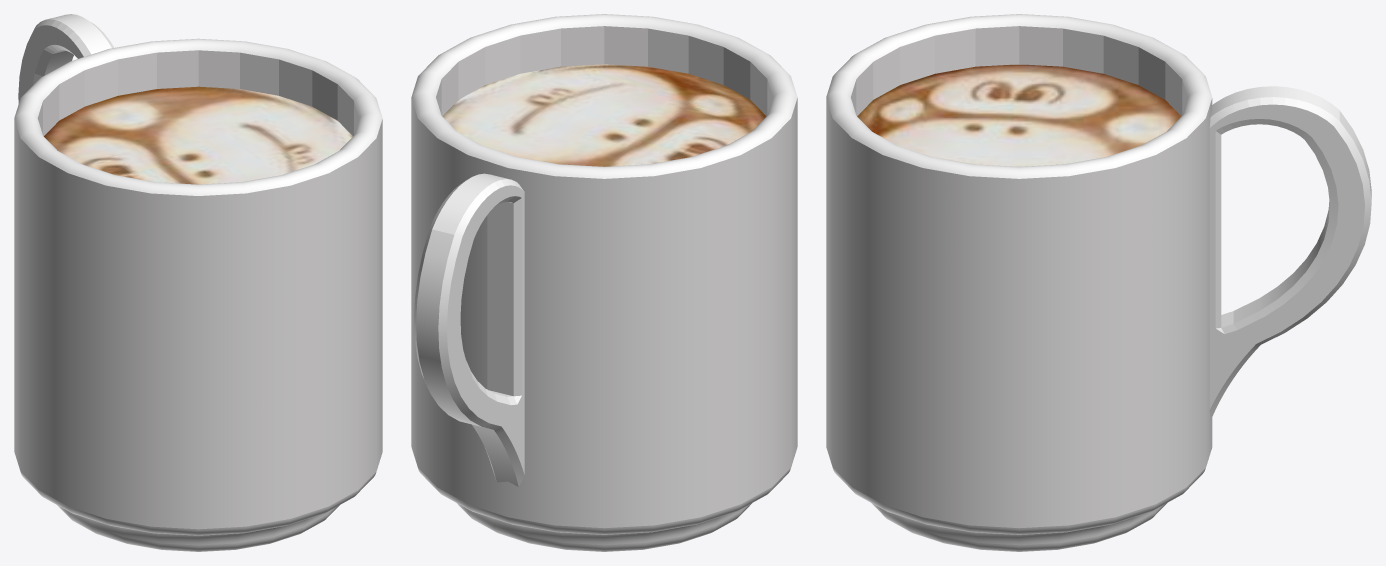
3 views of the same model, side by side, from view 1: azimuth 30°, elevation 25°; view 2: azimuth 150°, elevation 25°; view 3: azimuth 270°, elevation 25° (orthographic). The views are drawn at different scales.
Parts seen in each view (by area): view 1: mesh1_mesh1-geometry_1, mesh1_mesh1-geometry_2, mesh1_mesh1-geometry, mesh2_mesh2-geometry; view 2: mesh1_mesh1-geometry_1, mesh1_mesh1-geometry_2, mesh2_mesh2-geometry, mesh1_mesh1-geometry; view 3: mesh1_mesh1-geometry_1, mesh1_mesh1-geometry_2, mesh2_mesh2-geometry, mesh1_mesh1-geometry.
Part boxes in pixels (bbox=[...]): mesh1_mesh1-geometry_1: bbox=[14, 50, 382, 551]; mesh1_mesh1-geometry_2: bbox=[44, 86, 352, 184]; mesh1_mesh1-geometry: bbox=[14, 38, 382, 195]; mesh2_mesh2-geometry: bbox=[18, 14, 114, 103]; mesh1_mesh1-geometry_1: bbox=[411, 26, 797, 551]; mesh1_mesh1-geometry_2: bbox=[442, 64, 766, 166]; mesh2_mesh2-geometry: bbox=[414, 173, 524, 486]; mesh1_mesh1-geometry: bbox=[411, 14, 797, 178]; mesh1_mesh1-geometry_1: bbox=[826, 26, 1212, 551]; mesh1_mesh1-geometry_2: bbox=[857, 64, 1181, 166]; mesh2_mesh2-geometry: bbox=[1209, 86, 1371, 420]; mesh1_mesh1-geometry: bbox=[826, 14, 1212, 178].
Bounding box in the file's own units: 0.4825 × 0.5502 × 0.6816.
4 materials, 1 textured.
